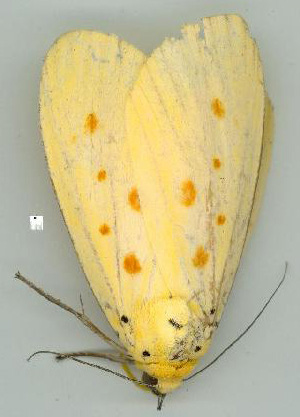Agape chloropyga: (10, 12, 293, 412)
moth: (12, 14, 295, 414)
